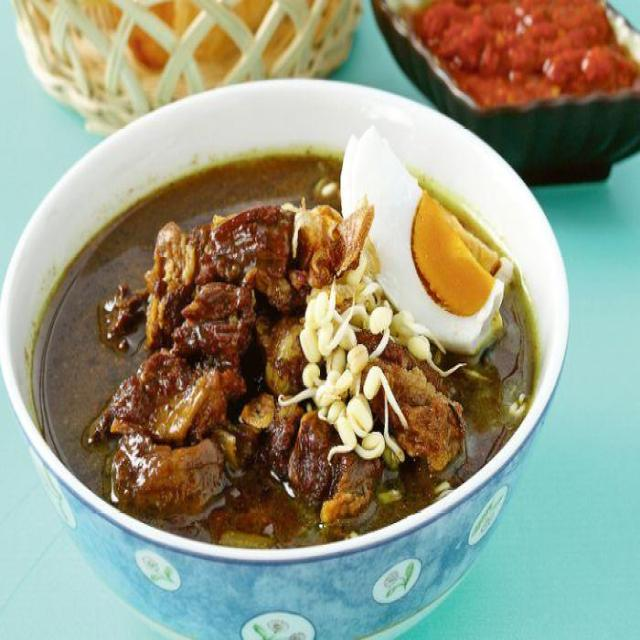Rawon: (34, 153, 525, 525)
